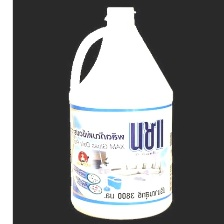cleaning_solution: (67, 4, 179, 221)
